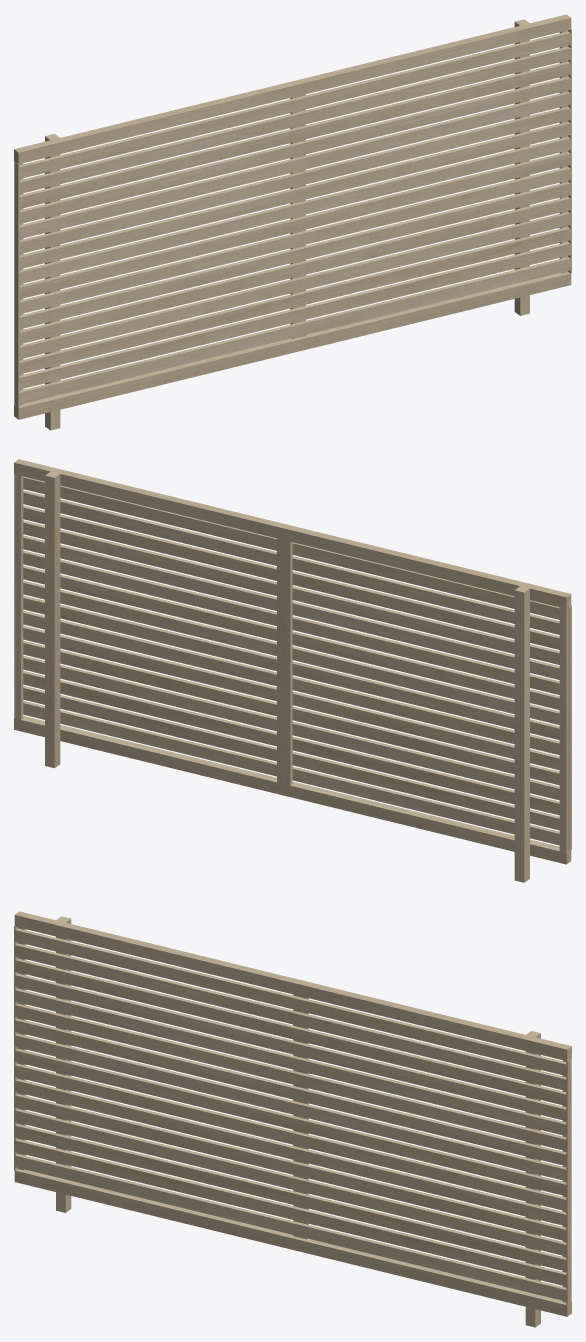
The model's file is dsf_yoko40_h1000_springoak.fbx.
3 views of the same model, one above another, from view 1: azimuth 30°, elevation 25°; view 2: azimuth 150°, elevation 25°; view 3: azimuth 330°, elevation 25° (orthographic).
Parts seen in each view (by area): view 1: dsf_yoko40_h1000_springoak; view 2: dsf_yoko40_h1000_springoak; view 3: dsf_yoko40_h1000_springoak.
Boxes of the visible parts, x1=… form: dsf_yoko40_h1000_springoak: x1=14, y1=14, x2=571, y2=430; dsf_yoko40_h1000_springoak: x1=14, y1=459, x2=571, y2=882; dsf_yoko40_h1000_springoak: x1=14, y1=911, x2=571, y2=1327.
Size of the model in its own units: 200 by 100 by 6.55.
1 material, 1 textured.
